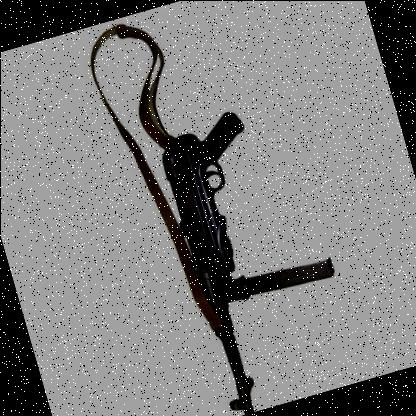rifle: (119, 87, 366, 416)
